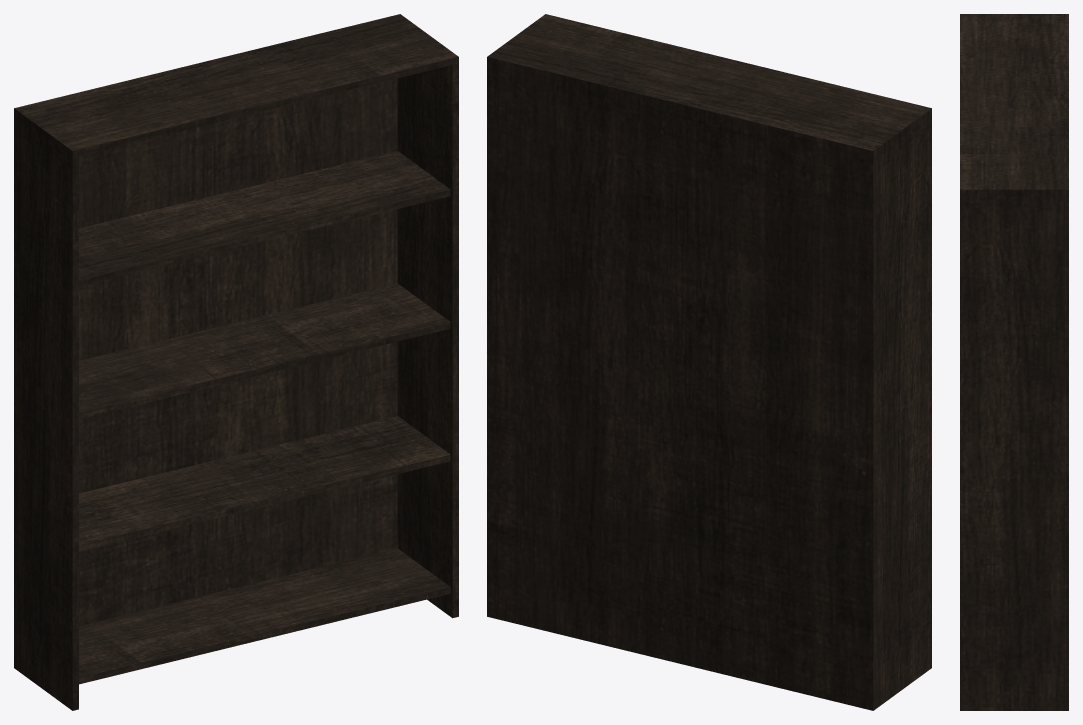
Rendered from shelf_mp_5_2.dae.
3 renders of one model, left to right at view 1: azimuth 30°, elevation 25°; view 2: azimuth 150°, elevation 25°; view 3: azimuth 270°, elevation 25°, orthographic. The views are drawn at different scales.
Parts seen in each view (by area): view 1: shelf_mp_5_2; view 2: shelf_mp_5_2; view 3: shelf_mp_5_2.
Boxes of the visible parts, bbox=[...] form: shelf_mp_5_2: bbox=[14, 14, 458, 710]; shelf_mp_5_2: bbox=[487, 14, 931, 710]; shelf_mp_5_2: bbox=[960, 14, 1068, 710].
Size of the model in its own units: 1.22 by 0.32 by 1.69.
1 material, 1 textured.
